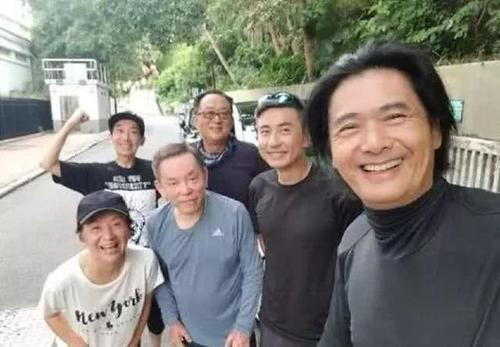no_mask: (313, 41, 449, 205), (72, 191, 134, 265), (150, 140, 210, 214), (254, 94, 312, 170), (190, 87, 234, 145), (104, 108, 146, 159)
